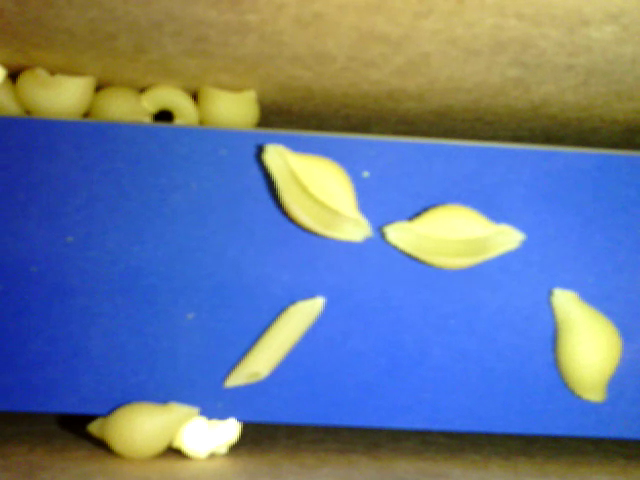elbow: (137, 87, 198, 127)
penne: (224, 295, 325, 385)
shell: (261, 142, 373, 246), (380, 201, 525, 270), (549, 287, 621, 403), (86, 399, 202, 458), (13, 68, 98, 122), (197, 87, 260, 128), (88, 87, 155, 123)
